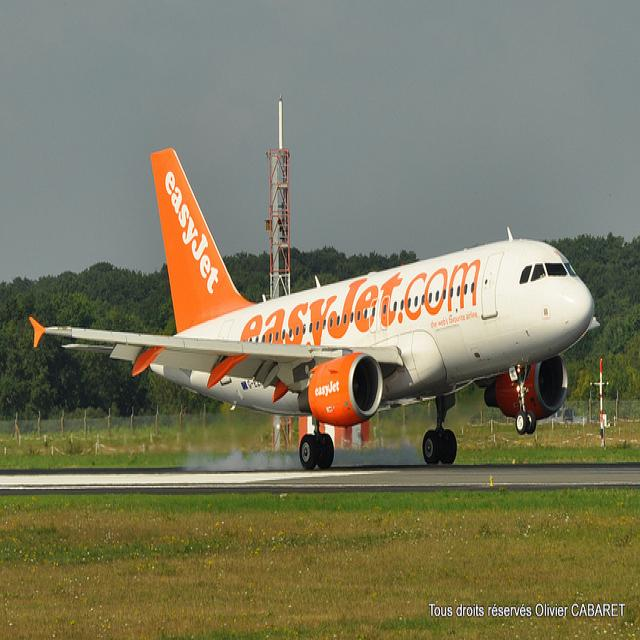airplane: (29, 145, 597, 473)
